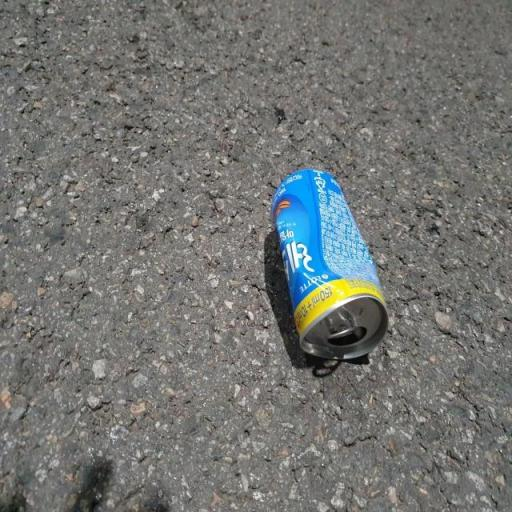metal: (224, 128, 437, 394)
